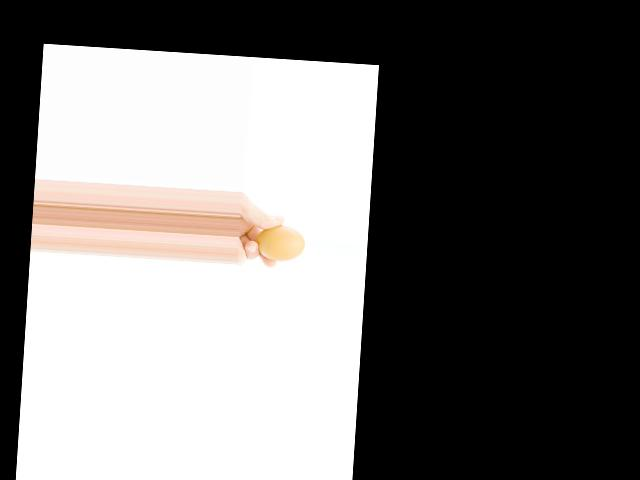egg: (256, 224, 306, 263)
